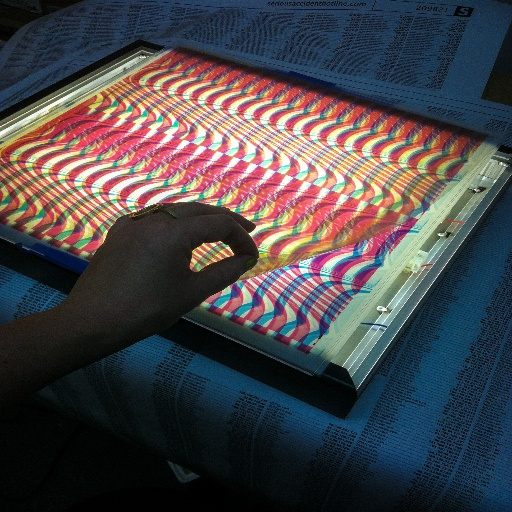hand: (73, 201, 261, 338)
